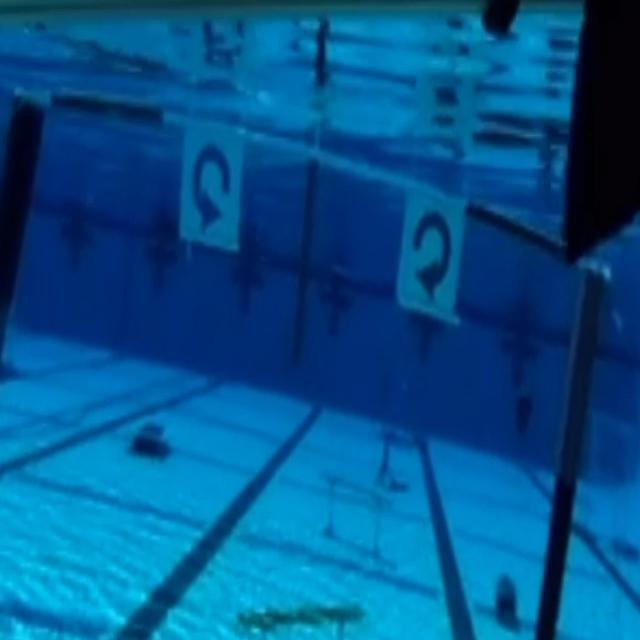Gate: (11, 89, 614, 640)
